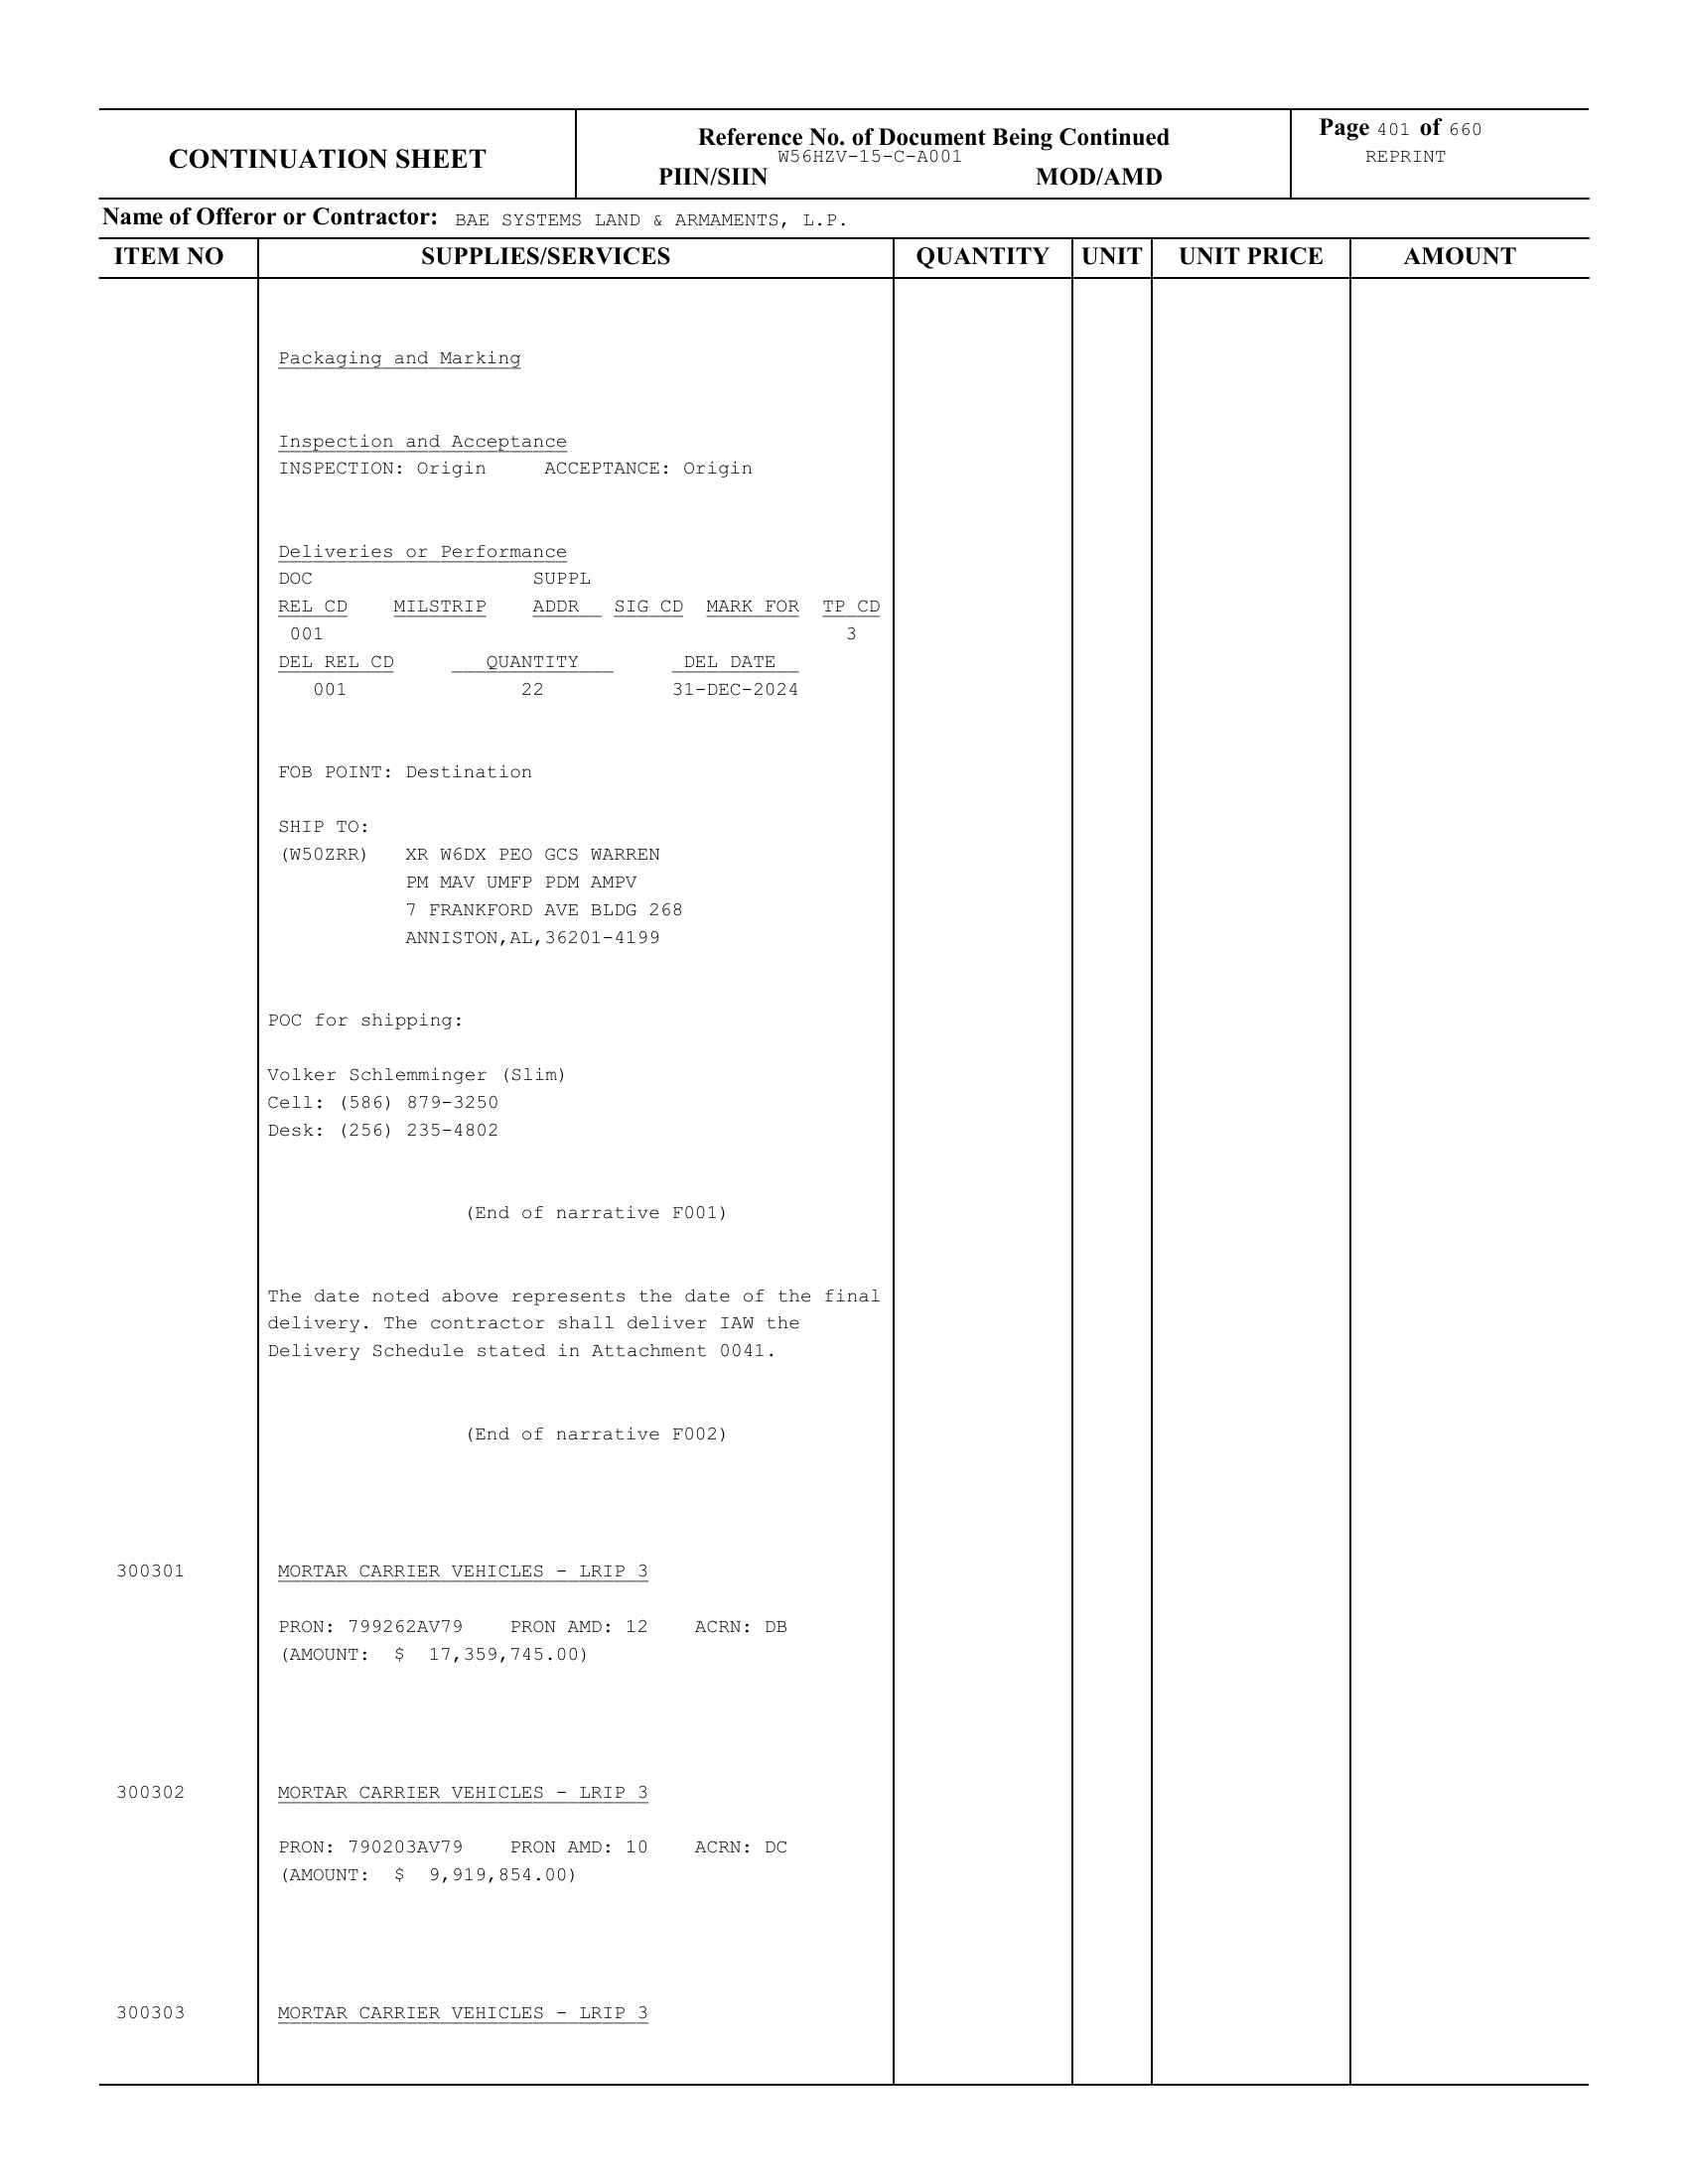table: (90, 234, 1590, 2081)
table column: (254, 236, 899, 2090), (1346, 238, 1587, 2086), (1151, 239, 1351, 2088), (895, 239, 1075, 2088), (89, 230, 259, 2090), (1073, 234, 1153, 2090), (87, 238, 1592, 277)
table row: (92, 277, 1590, 1503), (89, 1505, 1594, 1711), (87, 1714, 1590, 1913), (85, 1918, 1592, 2085)
